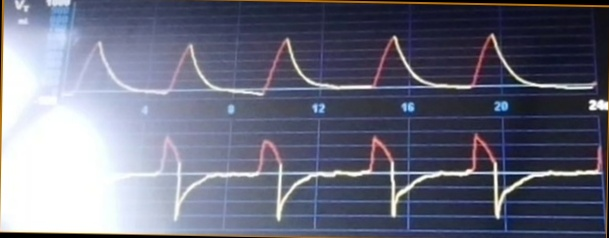Normal Flow: (112, 124, 602, 225)
Normal Volume: (64, 28, 594, 98)
